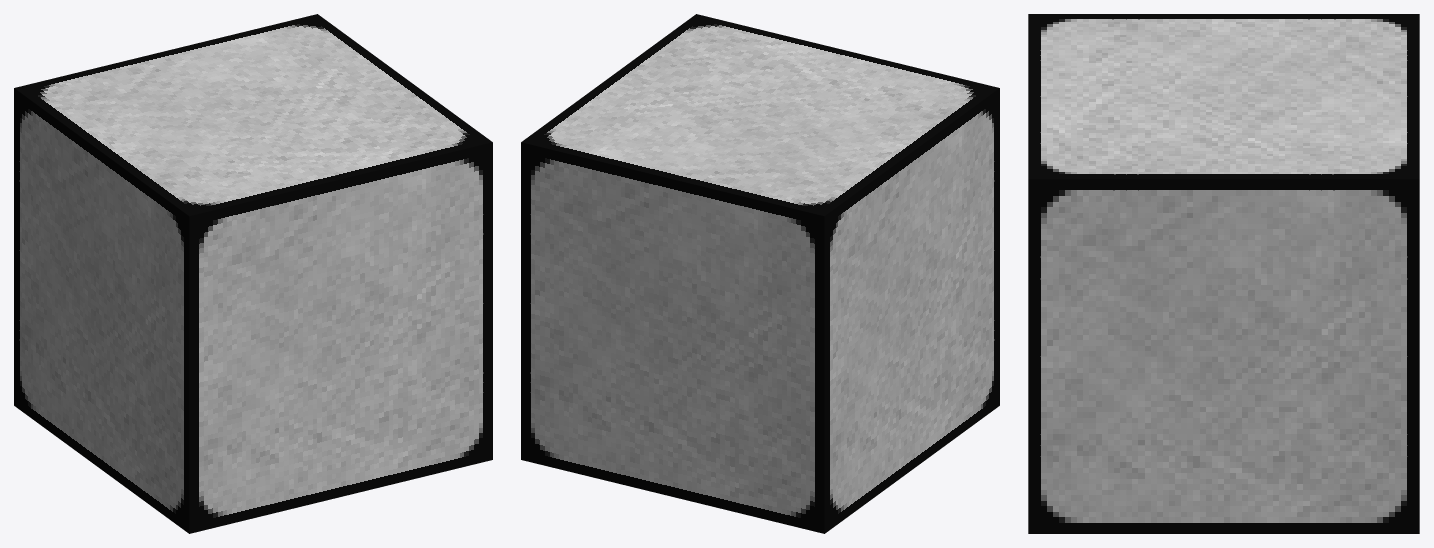
File: cube-tex.obj
The picture shows the model from 3 angles, left to right: view 1: azimuth 30°, elevation 25°; view 2: azimuth 150°, elevation 25°; view 3: azimuth 270°, elevation 25°; orthographic projection. The views are drawn at different scales.
Visible parts, largest first — view 1: cube1_cube1_auv, cube1_cube1_auv3, cube1_cube1_auv2; view 2: cube1_cube1_auv, cube1_cube1_auv3, cube1_cube1_auv2; view 3: cube1_cube1_auv, cube1_cube1_auv2.
Part boxes in pixels (box(x1,y1,x2,y2)): cube1_cube1_auv: box(189, 142, 492, 533); cube1_cube1_auv3: box(14, 88, 189, 533); cube1_cube1_auv2: box(14, 14, 492, 216); cube1_cube1_auv: box(521, 142, 824, 533); cube1_cube1_auv3: box(824, 88, 999, 533); cube1_cube1_auv2: box(521, 14, 999, 216); cube1_cube1_auv: box(1028, 179, 1419, 533); cube1_cube1_auv2: box(1028, 14, 1419, 179).
Size of the model in its own units: 2 by 2 by 2.
3 materials, 3 textured.
